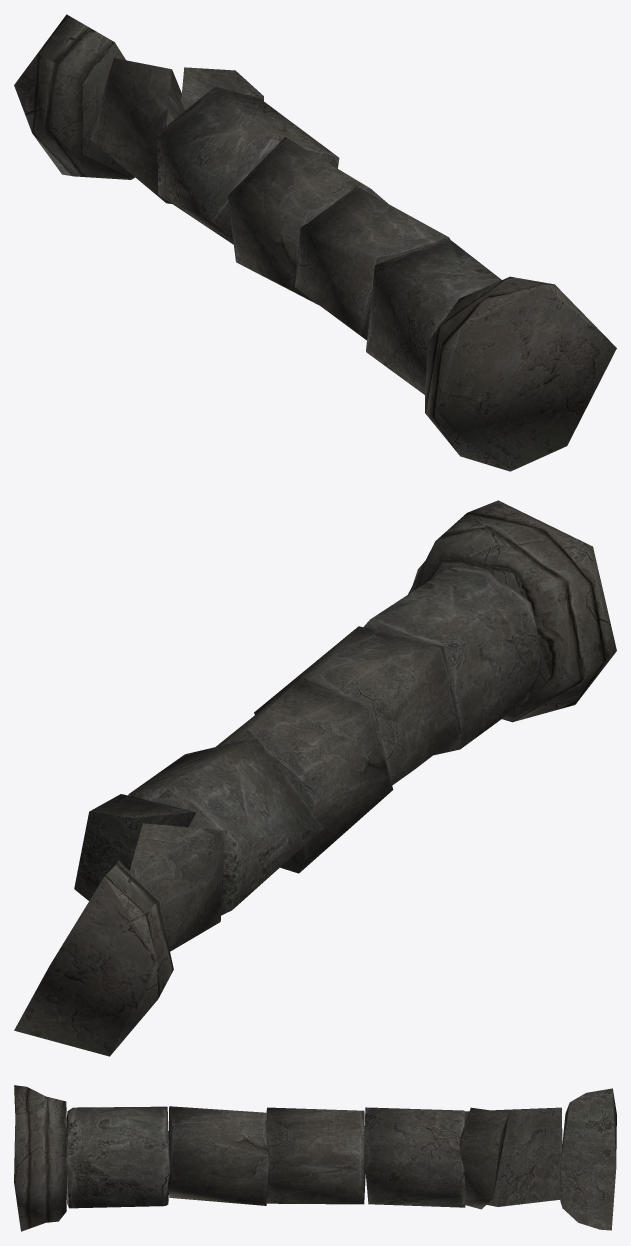
File: TI_Pillar_D_02_LOD_01.fbx
3 renders of one model, top to bottom at view 1: azimuth 30°, elevation 25°; view 2: azimuth 150°, elevation 25°; view 3: azimuth 270°, elevation 25°, orthographic. The views are drawn at different scales.
Visible parts, largest first — view 1: TI_Pillar_D_02_LOD_01; view 2: TI_Pillar_D_02_LOD_01; view 3: TI_Pillar_D_02_LOD_01.
Boxes of the visible parts, <box> form: TI_Pillar_D_02_LOD_01: <box>14,14,616,471</box>; TI_Pillar_D_02_LOD_01: <box>14,500,616,1056</box>; TI_Pillar_D_02_LOD_01: <box>14,1085,616,1231</box>.
Bounding box in the file's own units: 1.63 × 1.54 × 6.36.
